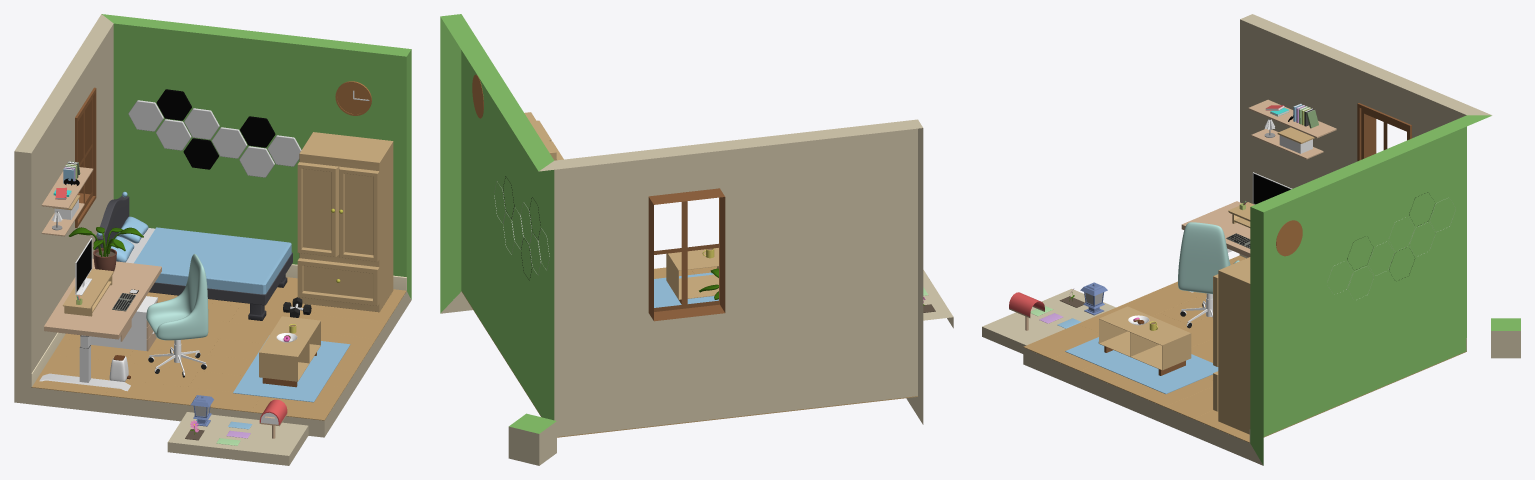
Rendered from Room.glb.
The picture shows the model from 3 angles, left to right: view 1: azimuth 30°, elevation 25°; view 2: azimuth 150°, elevation 25°; view 3: azimuth 270°, elevation 25°; orthographic projection. The views are drawn at different scales.
Visible parts, largest first — view 1: Room, Floor, Wardrobe, Bed, Wall Stuff, Table, Mini Floor, Chair, Coffee Table, Mat, Table Stuff, Shelves (+7 smaller); view 2: Room, Cube.001, Coffee Table, Floor, Mat, Wall Stuff, Mini Floor; view 3: Room, Floor, Wardrobe, Coffee Table, Mat, Mini Floor, Chair, Shelves, Cube.001, Table, Wall Stuff, Computer (+3 smaller).
Part boxes in pixels (<box>): Room: <box>14,14,411,437</box>; Floor: <box>31,277,406,420</box>; Wardrobe: <box>297,132,393,312</box>; Bed: <box>95,191,292,320</box>; Wall Stuff: <box>128,81,371,177</box>; Table: <box>39,258,161,391</box>; Mini Floor: <box>167,412,308,465</box>; Chair: <box>146,254,208,340</box>; Coffee Table: <box>259,316,320,387</box>; Mat: <box>233,335,350,402</box>; Table Stuff: <box>62,227,143,316</box>; Shelves: <box>41,161,93,236</box>; Room: <box>440,14,923,437</box>; Cube.001: <box>508,413,556,465</box>; Coffee Table: <box>666,248,718,303</box>; Floor: <box>461,266,917,437</box>; Mat: <box>654,272,718,307</box>; Wall Stuff: <box>472,74,549,280</box>; Mini Floor: <box>923,270,953,328</box>; Room: <box>1023,14,1492,465</box>; Floor: <box>1023,255,1466,442</box>; Wardrobe: <box>1213,257,1250,434</box>; Coffee Table: <box>1098,306,1191,375</box>; Mat: <box>1065,337,1218,393</box>; Mini Floor: <box>982,289,1115,353</box>; Chair: <box>1178,222,1239,294</box>; Shelves: <box>1248,99,1336,159</box>; Cube.001: <box>1491,318,1520,358</box>; Table: <box>1181,201,1250,292</box>; Wall Stuff: <box>1276,192,1452,298</box>; Computer: <box>1252,172,1292,204</box>.
Size of the model in its own units: 31.17 by 18.58 by 35.78.
Materials: 55 (1 with a texture image).
